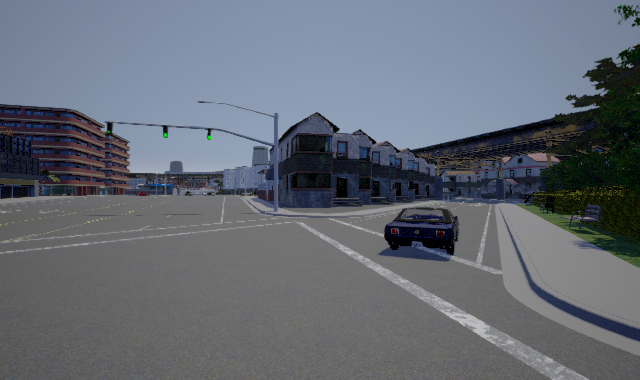traffic_light: (107, 122, 113, 135), (163, 125, 168, 138), (207, 128, 211, 140)
vehicle: (384, 207, 459, 255)
